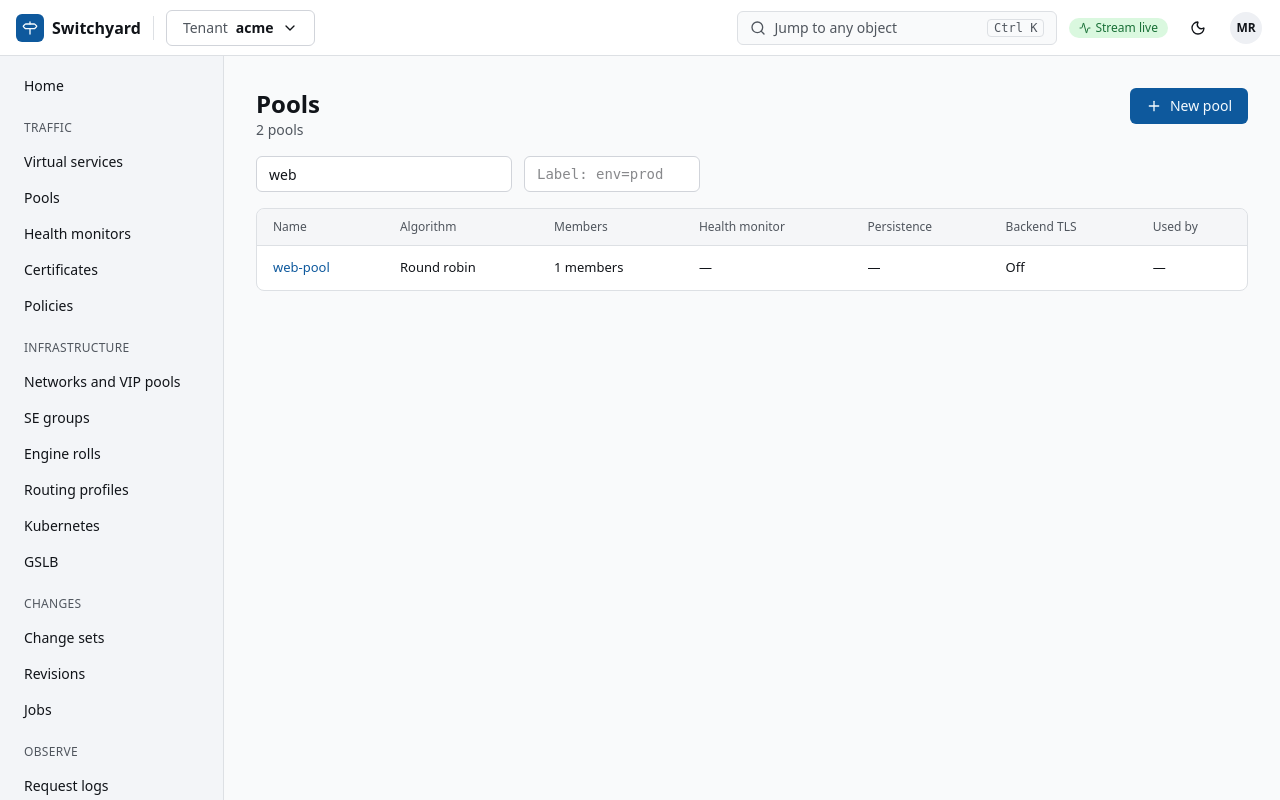
Test: pools filter in the URL and wizard VIP suggestion › keeps the pools name filter in the URL
The width and height of the screenshot is (1280, 800).
Check: the button "web-pool" is shown, box [273,258,330,278]
Check: the button "other-pool" is not shown
Clear the field named "Filter by name" at (384, 174), box [256,156,512,192]
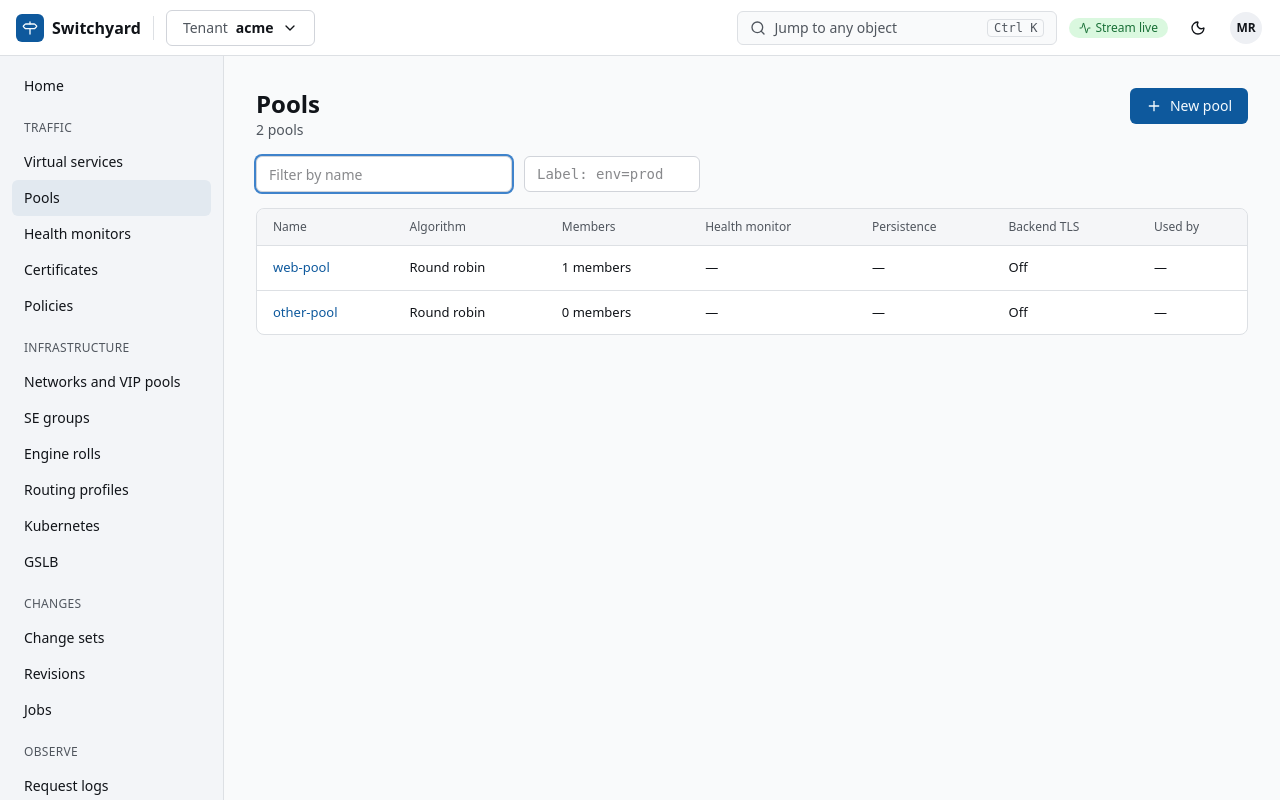
Check: the button "other-pool" is shown, box [273,302,338,322]
